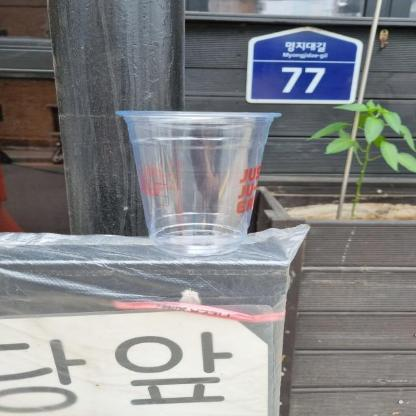Plastic Cup: (110, 104, 288, 260)
